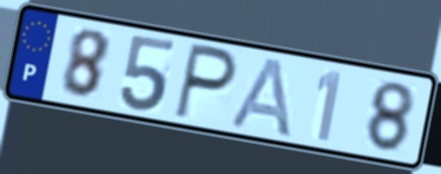1: (314, 68, 345, 144)
5: (117, 33, 179, 114)
8: (365, 80, 418, 154), (60, 27, 112, 100)
A: (227, 55, 294, 141)
P: (171, 40, 240, 124)
